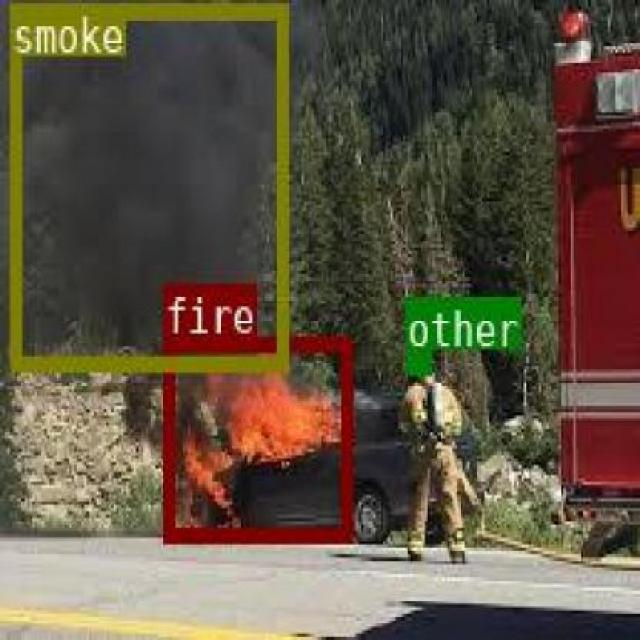Fire: (162, 334, 350, 540)
Smoke: (8, 2, 286, 368)
